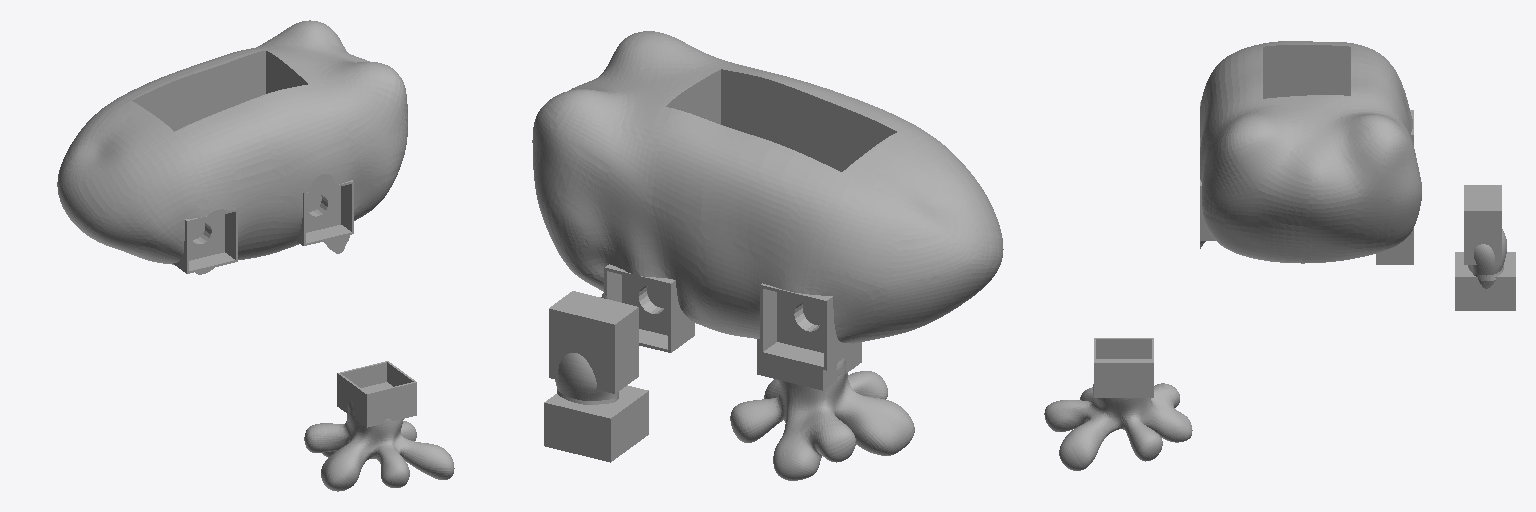
The robot description file, URDF, robot "FrogBot5_top-FrogBot5-x-1_bottom-FrogBot5-x-1":
<?xml version="1.0" ?>
<robot name="FrogBot5_top-FrogBot5-x-1_bottom-FrogBot5-x-1">

<material name="pla_5_percent_infill">
  <color rgba="0.700 0.700 0.700 1.000"/>
</material>

<link name="base_link">
  <inertial>
    <origin xyz="0 0 0" rpy="0 0 0"/>
    <mass value="1.4805118043364613"/>
    <inertia ixx="0.00519778244400068" iyy="0.011185972187213383" izz="0.012581059264896973" ixy="-0.0002102027550041139" iyz="-1.09064860282594e-05" ixz="-0.0008439426245005397"/>
  </inertial>
  <visual>
    <origin xyz="0 0 0" rpy="0 0 0"/>
    <geometry>
      <mesh filename="simple_meshes/base_link.stl" scale="0.001 0.001 0.001"/>
    </geometry>
    <material name="pla_5_percent_infill"/>
  </visual>
  <collision>
    <origin xyz="0 0 0" rpy="0 0 0"/>
    <geometry>
      <mesh filename="simple_meshes/base_link.stl" scale="0.001 0.001 0.001"/>
    </geometry>
  </collision>
</link>

<link name="body_1_0_1">
  <inertial>
    <origin xyz="-0.05492 -0.106321 -0.011198" rpy="0 0 0"/>
    <mass value="0.030173710329231874"/>
    <inertia ixx="2.1151289092102106e-05" iyy="2.3891212404817576e-05" izz="1.1139964591219687e-05" ixy="-8.243479070280742e-08" iyz="-1.2629091710427749e-06" ixz="-7.893532797612751e-07"/>
  </inertial>
  <visual>
    <origin xyz="-0.05492 -0.106321 -0.011198" rpy="0 0 0"/>
    <geometry>
      <mesh filename="simple_meshes/body_1_0_1.stl" scale="0.001 0.001 0.001"/>
    </geometry>
    <material name="pla_5_percent_infill"/>
  </visual>
  <collision>
    <origin xyz="-0.05492 -0.106321 -0.011198" rpy="0 0 0"/>
    <geometry>
      <mesh filename="simple_meshes/body_1_0_1.stl" scale="0.001 0.001 0.001"/>
    </geometry>
  </collision>
</link>

<link name="body_1_1_1">
  <inertial>
    <origin xyz="0.058377 -0.106321 -0.025493" rpy="0 0 0"/>
    <mass value="0.04959591978118273"/>
    <inertia ixx="4.2126143959894755e-05" iyy="6.312488080287146e-05" izz="3.558844236590175e-05" ixy="-1.6763401172245748e-06" iyz="-6.683540816491339e-07" ixz="-2.0590648971645016e-05"/>
  </inertial>
  <visual>
    <origin xyz="0.058377 -0.106321 -0.025493" rpy="0 0 0"/>
    <geometry>
      <mesh filename="simple_meshes/body_1_1_1.stl" scale="0.001 0.001 0.001"/>
    </geometry>
    <material name="pla_5_percent_infill"/>
  </visual>
  <collision>
    <origin xyz="0.058377 -0.106321 -0.025493" rpy="0 0 0"/>
    <geometry>
      <mesh filename="simple_meshes/body_1_1_1.stl" scale="0.001 0.001 0.001"/>
    </geometry>
  </collision>
</link>

<link name="body_1_2_1">
  <inertial>
    <origin xyz="-0.053934 0.106321 -0.032331" rpy="0 0 0"/>
    <mass value="0.04269392099081466"/>
    <inertia ixx="4.093074680828839e-05" iyy="4.614185521955802e-05" izz="1.5859195045614437e-05" ixy="6.028893648359459e-08" iyz="1.772225068526732e-08" ixz="5.9296961033217955e-06"/>
  </inertial>
  <visual>
    <origin xyz="-0.053934 0.106321 -0.032331" rpy="0 0 0"/>
    <geometry>
      <mesh filename="simple_meshes/body_1_2_1.stl" scale="0.001 0.001 0.001"/>
    </geometry>
    <material name="pla_5_percent_infill"/>
  </visual>
  <collision>
    <origin xyz="-0.053934 0.106321 -0.032331" rpy="0 0 0"/>
    <geometry>
      <mesh filename="simple_meshes/body_1_2_1.stl" scale="0.001 0.001 0.001"/>
    </geometry>
  </collision>
</link>

<link name="body_1_3_1">
  <inertial>
    <origin xyz="0.057483 0.106321 -0.032919" rpy="0 0 0"/>
    <mass value="0.04788517718802873"/>
    <inertia ixx="4.447962696015745e-05" iyy="6.078522117296584e-05" izz="2.855595916184759e-05" ixy="-6.817160978697927e-07" iyz="-1.6790953519319051e-06" ixz="-1.826446817986444e-05"/>
  </inertial>
  <visual>
    <origin xyz="0.057483 0.106321 -0.032919" rpy="0 0 0"/>
    <geometry>
      <mesh filename="simple_meshes/body_1_3_1.stl" scale="0.001 0.001 0.001"/>
    </geometry>
    <material name="pla_5_percent_infill"/>
  </visual>
  <collision>
    <origin xyz="0.057483 0.106321 -0.032919" rpy="0 0 0"/>
    <geometry>
      <mesh filename="simple_meshes/body_1_3_1.stl" scale="0.001 0.001 0.001"/>
    </geometry>
  </collision>
</link>

<link name="body_2_0_1">
  <inertial>
    <origin xyz="-0.051784 -0.143449 0.075454" rpy="0 0 0"/>
    <mass value="0.07435618188436759"/>
    <inertia ixx="6.975634907167069e-05" iyy="7.70802745863569e-05" izz="9.259758076558041e-05" ixy="-4.545005589764767e-06" iyz="3.6843505059496774e-06" ixz="-7.682881899502602e-07"/>
  </inertial>
  <visual>
    <origin xyz="-0.051784 -0.143449 0.075454" rpy="0 0 0"/>
    <geometry>
      <mesh filename="simple_meshes/body_2_0_1.stl" scale="0.001 0.001 0.001"/>
    </geometry>
    <material name="pla_5_percent_infill"/>
  </visual>
  <collision>
    <origin xyz="-0.051784 -0.143449 0.075454" rpy="0 0 0"/>
    <geometry>
      <mesh filename="simple_meshes/body_2_0_1.stl" scale="0.001 0.001 0.001"/>
    </geometry>
  </collision>
</link>

<link name="body_2_1_1">
  <inertial>
    <origin xyz="0.108798 -0.147527 0.075454" rpy="0 0 0"/>
    <mass value="0.08193441824569248"/>
    <inertia ixx="4.299167477942031e-05" iyy="6.209126186463307e-05" izz="6.552960935158302e-05" ixy="-1.7933545118557857e-06" iyz="2.5584454424920806e-07" ixz="-6.609097183574858e-07"/>
  </inertial>
  <visual>
    <origin xyz="0.108798 -0.147527 0.075454" rpy="0 0 0"/>
    <geometry>
      <mesh filename="simple_meshes/body_2_1_1.stl" scale="0.001 0.001 0.001"/>
    </geometry>
    <material name="pla_5_percent_infill"/>
  </visual>
  <collision>
    <origin xyz="0.108798 -0.147527 0.075454" rpy="0 0 0"/>
    <geometry>
      <mesh filename="simple_meshes/body_2_1_1.stl" scale="0.001 0.001 0.001"/>
    </geometry>
  </collision>
</link>

<link name="body_2_2_1">
  <inertial>
    <origin xyz="-0.065031 0.147225 0.075454" rpy="0 0 0"/>
    <mass value="0.07330124746486667"/>
    <inertia ixx="6.873313318246643e-05" iyy="6.698655751762234e-05" izz="8.498154268068558e-05" ixy="6.0309533392252385e-06" iyz="-2.034515268293678e-06" ixz="-3.0156798077088072e-06"/>
  </inertial>
  <visual>
    <origin xyz="-0.065031 0.147225 0.075454" rpy="0 0 0"/>
    <geometry>
      <mesh filename="simple_meshes/body_2_2_1.stl" scale="0.001 0.001 0.001"/>
    </geometry>
    <material name="pla_5_percent_infill"/>
  </visual>
  <collision>
    <origin xyz="-0.065031 0.147225 0.075454" rpy="0 0 0"/>
    <geometry>
      <mesh filename="simple_meshes/body_2_2_1.stl" scale="0.001 0.001 0.001"/>
    </geometry>
  </collision>
</link>

<link name="body_2_3_1">
  <inertial>
    <origin xyz="0.101339 0.151086 0.075454" rpy="0 0 0"/>
    <mass value="0.09394065176853235"/>
    <inertia ixx="5.545765945787987e-05" iyy="8.539341208935961e-05" izz="7.992714861295488e-05" ixy="7.163962595421042e-07" iyz="-2.796341816162836e-06" ixz="4.887362561150667e-06"/>
  </inertial>
  <visual>
    <origin xyz="0.101339 0.151086 0.075454" rpy="0 0 0"/>
    <geometry>
      <mesh filename="simple_meshes/body_2_3_1.stl" scale="0.001 0.001 0.001"/>
    </geometry>
    <material name="pla_5_percent_infill"/>
  </visual>
  <collision>
    <origin xyz="0.101339 0.151086 0.075454" rpy="0 0 0"/>
    <geometry>
      <mesh filename="simple_meshes/body_2_3_1.stl" scale="0.001 0.001 0.001"/>
    </geometry>
  </collision>
</link>

<joint name="joint_1_0" type="revolute">
  <origin xyz="0.05492 0.106321 0.011198" rpy="0 0 0"/>
  <parent link="base_link"/>
  <child link="body_1_0_1"/>
  <axis xyz="1.0 0.0 0.0"/>
  <limit upper="1.2" lower="-1.2" effort="3.8" velocity="5.4"/>
</joint>
<transmission name="joint_1_0_tran">
  <type>transmission_interface/SimpleTransmission</type>
  <joint name="joint_1_0">
    <hardwareInterface>PositionJointInterface</hardwareInterface>
  </joint>
  <actuator name="joint_1_0_actr">
    <hardwareInterface>PositionJointInterface</hardwareInterface>
    <mechanicalReduction>1</mechanicalReduction>
  </actuator>
</transmission>

<joint name="joint_1_1" type="revolute">
  <origin xyz="-0.058377 0.106321 0.025493" rpy="0 0 0"/>
  <parent link="base_link"/>
  <child link="body_1_1_1"/>
  <axis xyz="1.0 0.0 0.0"/>
  <limit upper="1.2" lower="-1.2" effort="3.8" velocity="5.4"/>
</joint>
<transmission name="joint_1_1_tran">
  <type>transmission_interface/SimpleTransmission</type>
  <joint name="joint_1_1">
    <hardwareInterface>PositionJointInterface</hardwareInterface>
  </joint>
  <actuator name="joint_1_1_actr">
    <hardwareInterface>PositionJointInterface</hardwareInterface>
    <mechanicalReduction>1</mechanicalReduction>
  </actuator>
</transmission>

<joint name="joint_1_2" type="revolute">
  <origin xyz="0.053934 -0.106321 0.032331" rpy="0 0 0"/>
  <parent link="base_link"/>
  <child link="body_1_2_1"/>
  <axis xyz="1.0 0.0 0.0"/>
  <limit upper="1.2" lower="-1.2" effort="3.8" velocity="5.4"/>
</joint>
<transmission name="joint_1_2_tran">
  <type>transmission_interface/SimpleTransmission</type>
  <joint name="joint_1_2">
    <hardwareInterface>PositionJointInterface</hardwareInterface>
  </joint>
  <actuator name="joint_1_2_actr">
    <hardwareInterface>PositionJointInterface</hardwareInterface>
    <mechanicalReduction>1</mechanicalReduction>
  </actuator>
</transmission>

<joint name="joint_1_3" type="revolute">
  <origin xyz="-0.057483 -0.106321 0.032919" rpy="0 0 0"/>
  <parent link="base_link"/>
  <child link="body_1_3_1"/>
  <axis xyz="1.0 0.0 0.0"/>
  <limit upper="1.2" lower="-1.2" effort="3.8" velocity="5.4"/>
</joint>
<transmission name="joint_1_3_tran">
  <type>transmission_interface/SimpleTransmission</type>
  <joint name="joint_1_3">
    <hardwareInterface>PositionJointInterface</hardwareInterface>
  </joint>
  <actuator name="joint_1_3_actr">
    <hardwareInterface>PositionJointInterface</hardwareInterface>
    <mechanicalReduction>1</mechanicalReduction>
  </actuator>
</transmission>

<joint name="joint_2_0" type="revolute">
  <origin xyz="-0.003136 0.037128 -0.086652" rpy="0 0 0"/>
  <parent link="body_1_0_1"/>
  <child link="body_2_0_1"/>
  <axis xyz="1.0 0.0 0.0"/>
  <limit upper="1.2" lower="-1.2" effort="3.8" velocity="5.4"/>
</joint>
<transmission name="joint_2_0_tran">
  <type>transmission_interface/SimpleTransmission</type>
  <joint name="joint_2_0">
    <hardwareInterface>PositionJointInterface</hardwareInterface>
  </joint>
  <actuator name="joint_2_0_actr">
    <hardwareInterface>PositionJointInterface</hardwareInterface>
    <mechanicalReduction>1</mechanicalReduction>
  </actuator>
</transmission>

<joint name="joint_2_1" type="revolute">
  <origin xyz="-0.050421 0.041206 -0.100947" rpy="0 0 0"/>
  <parent link="body_1_1_1"/>
  <child link="body_2_1_1"/>
  <axis xyz="1.0 0.0 0.0"/>
  <limit upper="1.2" lower="-1.2" effort="3.8" velocity="5.4"/>
</joint>
<transmission name="joint_2_1_tran">
  <type>transmission_interface/SimpleTransmission</type>
  <joint name="joint_2_1">
    <hardwareInterface>PositionJointInterface</hardwareInterface>
  </joint>
  <actuator name="joint_2_1_actr">
    <hardwareInterface>PositionJointInterface</hardwareInterface>
    <mechanicalReduction>1</mechanicalReduction>
  </actuator>
</transmission>

<joint name="joint_2_2" type="revolute">
  <origin xyz="0.011097 -0.040904 -0.107785" rpy="0 0 0"/>
  <parent link="body_1_2_1"/>
  <child link="body_2_2_1"/>
  <axis xyz="1.0 0.0 0.0"/>
  <limit upper="1.2" lower="-1.2" effort="3.8" velocity="5.4"/>
</joint>
<transmission name="joint_2_2_tran">
  <type>transmission_interface/SimpleTransmission</type>
  <joint name="joint_2_2">
    <hardwareInterface>PositionJointInterface</hardwareInterface>
  </joint>
  <actuator name="joint_2_2_actr">
    <hardwareInterface>PositionJointInterface</hardwareInterface>
    <mechanicalReduction>1</mechanicalReduction>
  </actuator>
</transmission>

<joint name="joint_2_3" type="revolute">
  <origin xyz="-0.043856 -0.044765 -0.108373" rpy="0 0 0"/>
  <parent link="body_1_3_1"/>
  <child link="body_2_3_1"/>
  <axis xyz="1.0 0.0 0.0"/>
  <limit upper="1.2" lower="-1.2" effort="3.8" velocity="5.4"/>
</joint>
<transmission name="joint_2_3_tran">
  <type>transmission_interface/SimpleTransmission</type>
  <joint name="joint_2_3">
    <hardwareInterface>PositionJointInterface</hardwareInterface>
  </joint>
  <actuator name="joint_2_3_actr">
    <hardwareInterface>PositionJointInterface</hardwareInterface>
    <mechanicalReduction>1</mechanicalReduction>
  </actuator>
</transmission>

</robot>

--- What the picture shows (computed from the rendered views, not written in the file) ---
3 views of the same robot in one strip: view 1: azimuth 30°, elevation 25°; view 2: azimuth 150°, elevation 25°; view 3: azimuth 270°, elevation 25° (orthographic).
Robot: FrogBot5_top-FrogBot5-x-1_bottom-FrogBot5-x-1 — 9 links, 8 joints (8 revolute); root link base_link; default pose: all joints at 0.
Links seen in each view (by area): view 1: base_link, body_2_2_1; view 2: base_link, body_1_0_1, body_2_2_1; view 3: base_link, body_2_2_1, body_1_0_1.
Boxes of the visible links, x1,y1,x2,y2 form: base_link: (57,20,407,274); body_2_2_1: (304,361,454,491); base_link: (532,31,1003,370); body_1_0_1: (544,291,648,462); body_2_2_1: (730,339,914,480); base_link: (1200,41,1421,264); body_2_2_1: (1044,338,1192,470); body_1_0_1: (1455,185,1515,310).
Size in the robot's own frame: 0.3102 by 0.3788 by 0.3173 metres.
3 mesh visuals loaded from 9 distinct referenced files (3 binary STL); not drawn: 6 (reference not matched to a file when rendering).